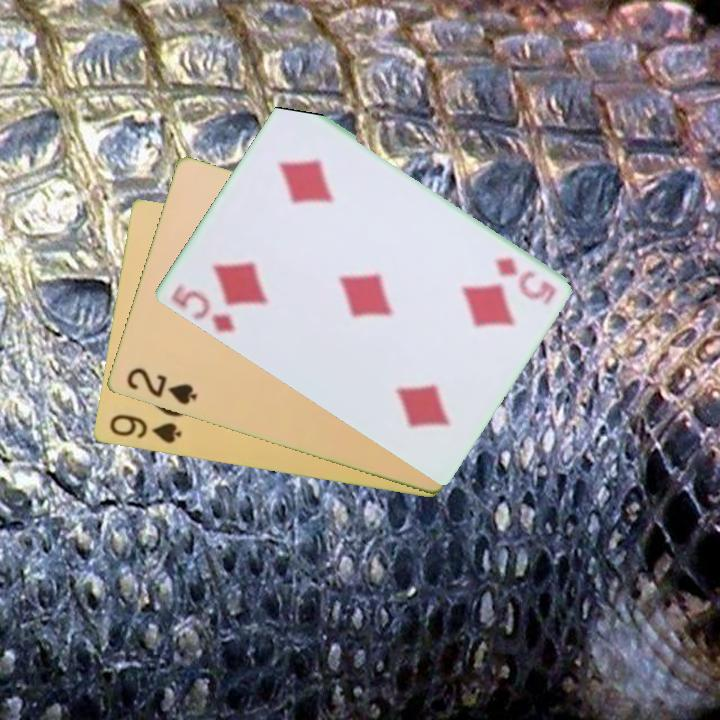2s: (122, 364, 200, 408)
5d: (167, 286, 239, 337), (490, 254, 559, 306)
9s: (105, 411, 184, 447)
